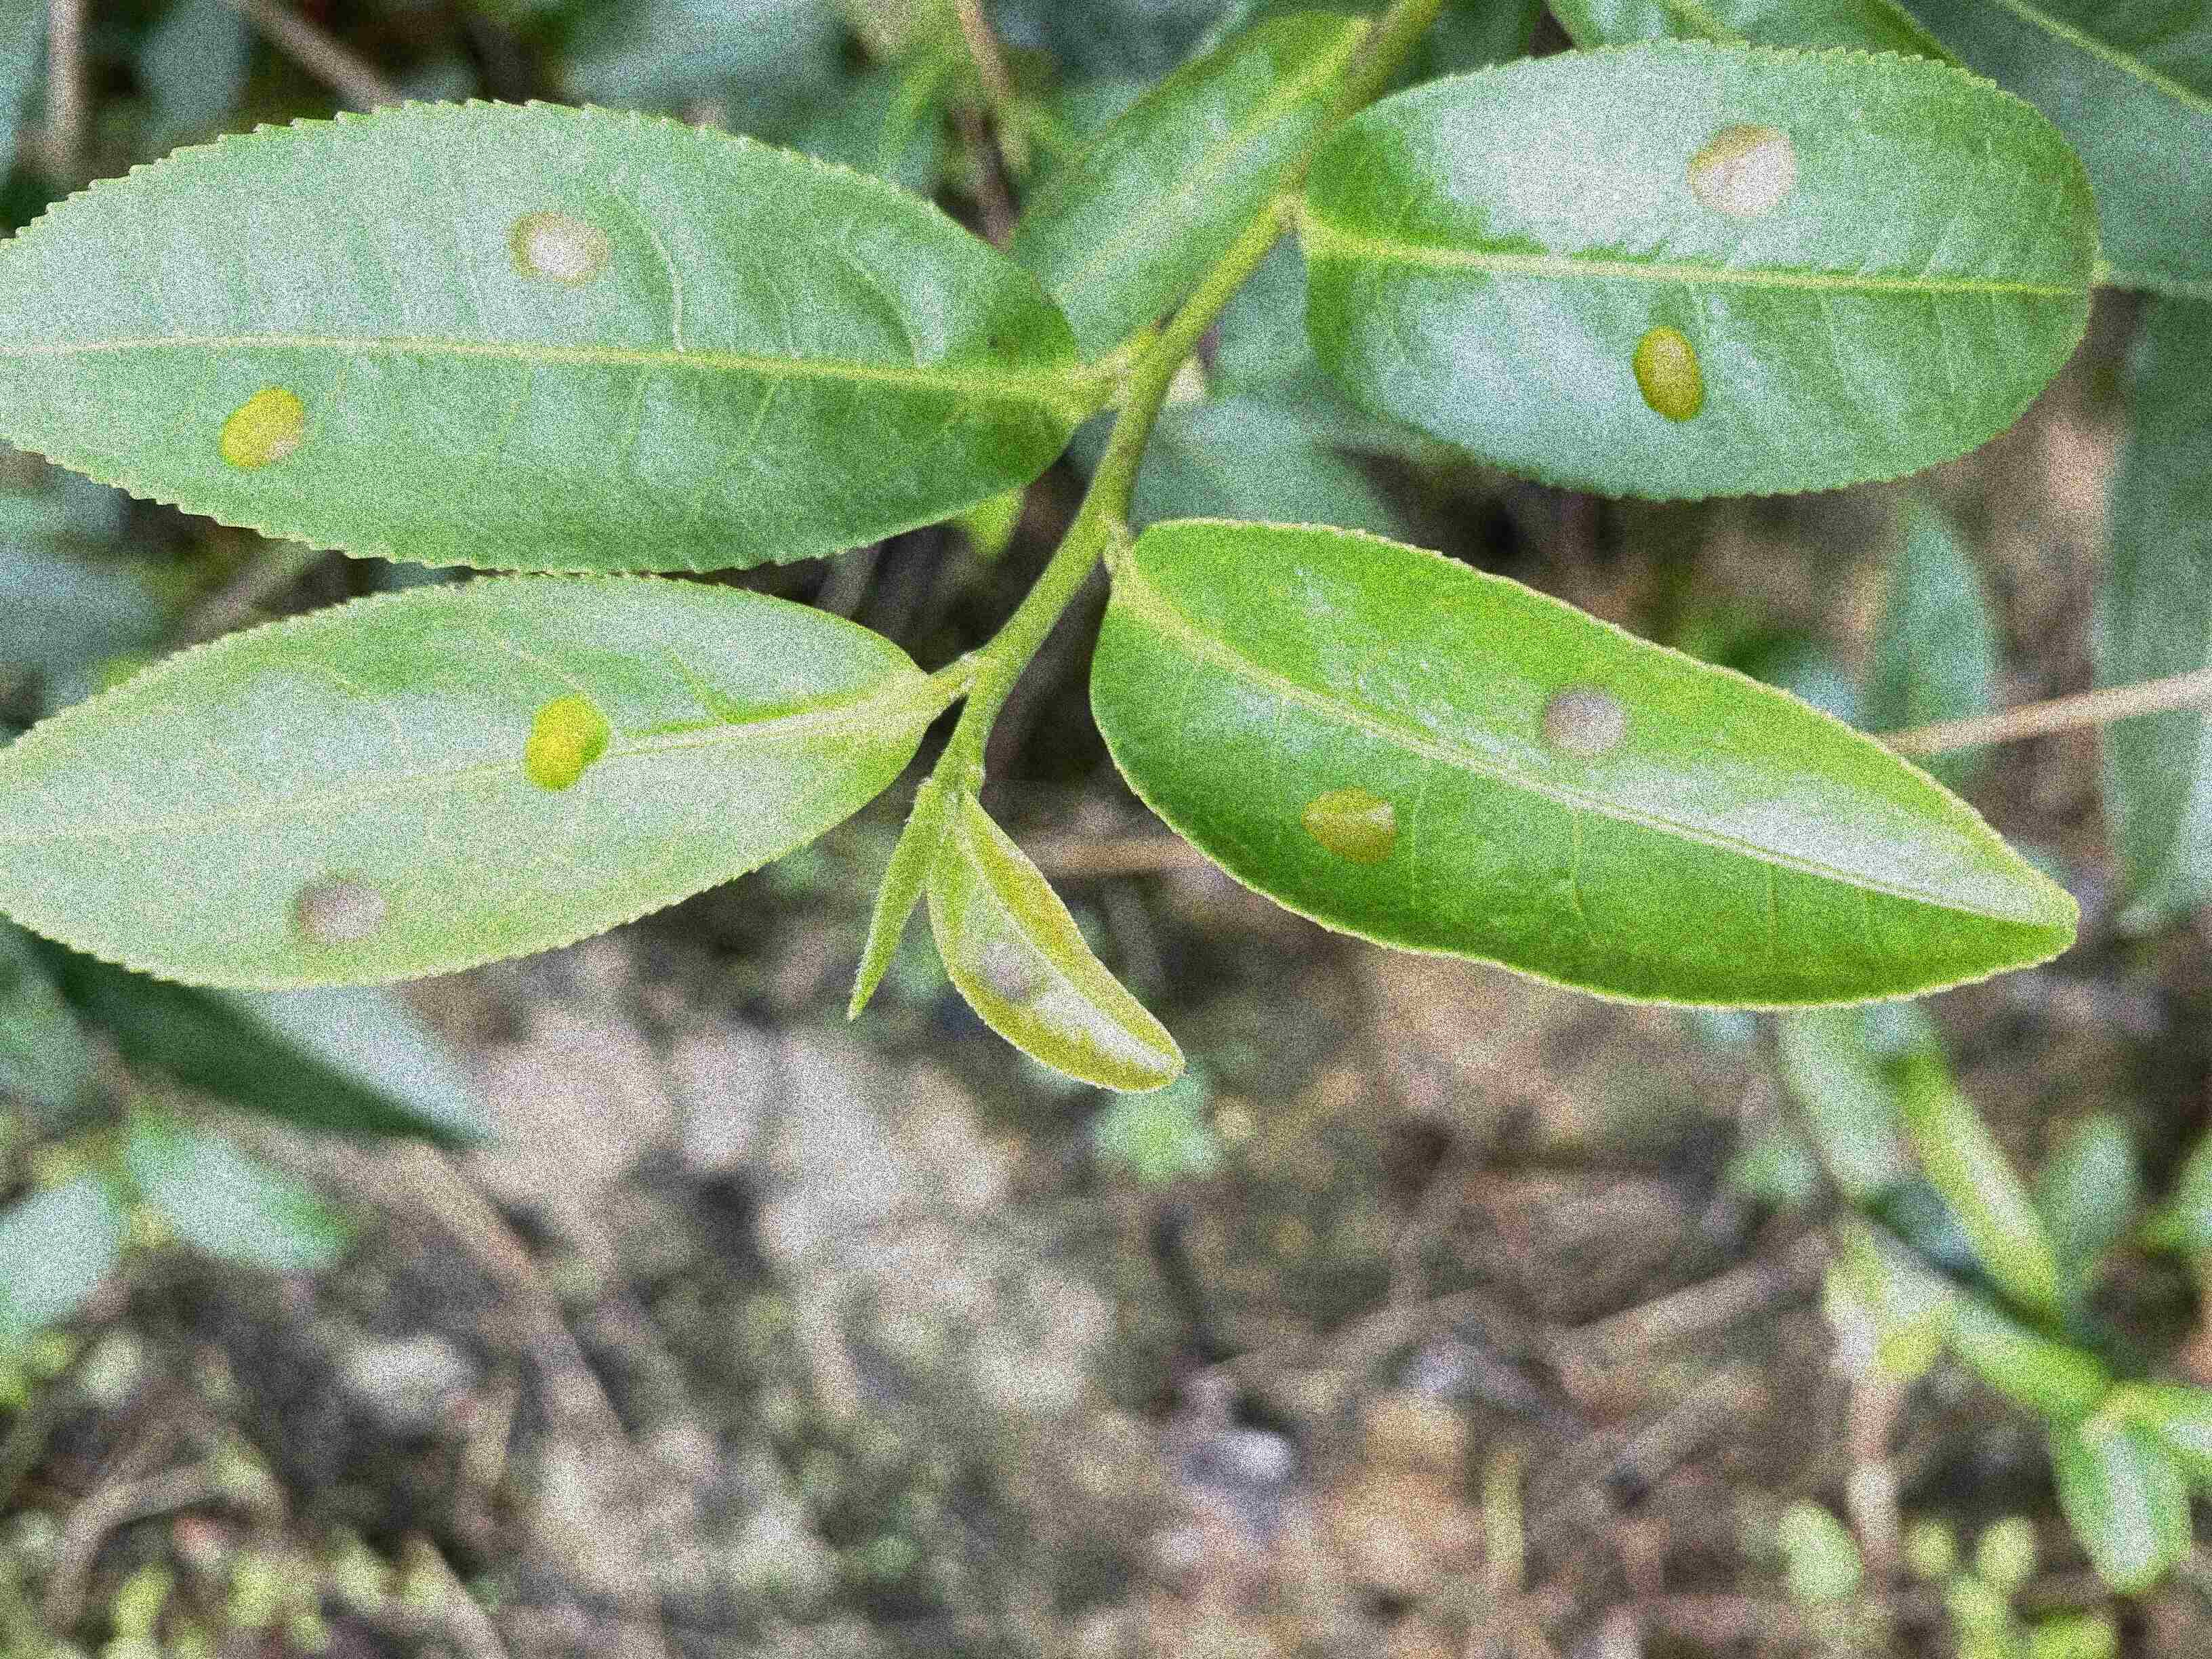chabing_high: (2, 94, 1090, 573), (1089, 518, 2081, 1014), (5, 570, 939, 993), (1296, 37, 2102, 505)
chabing_low: (927, 781, 1188, 1094)
